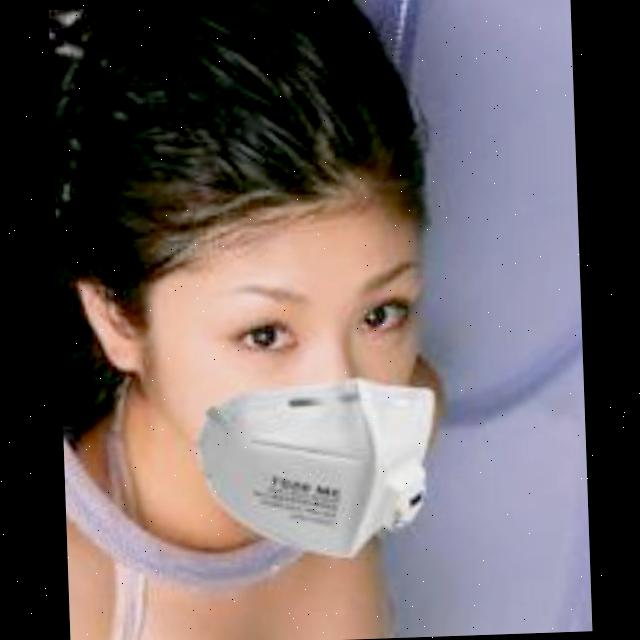suspicion: (70, 154, 440, 550)
